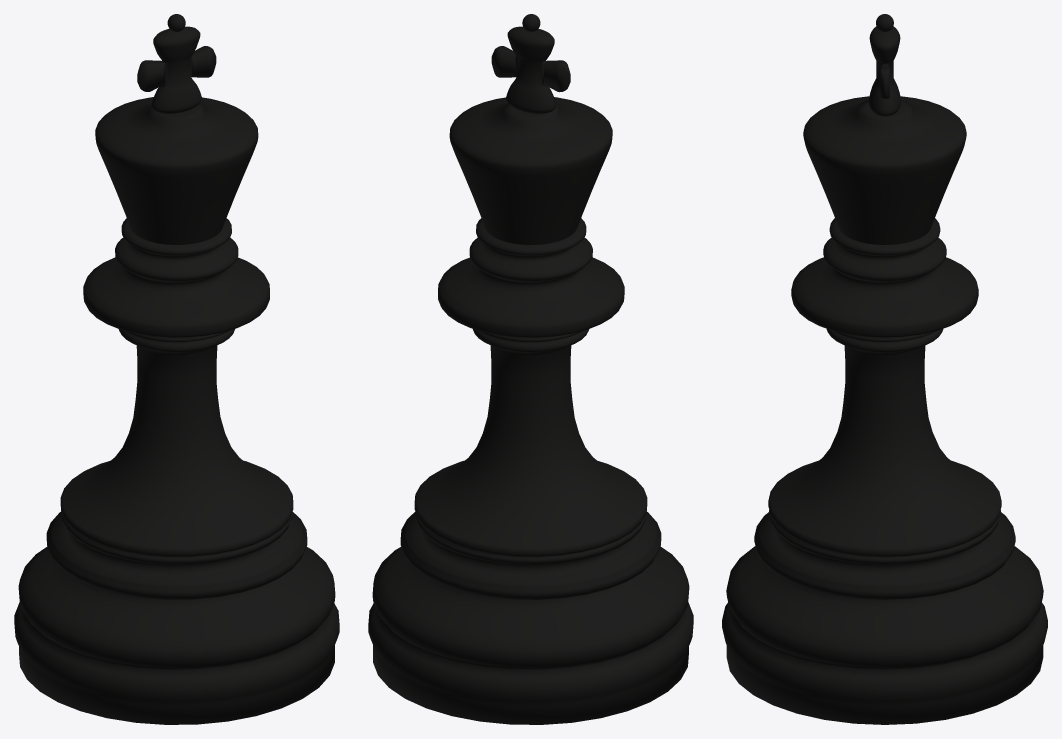
Rendered from King.fbx.
3 views of the same model, side by side, from view 1: azimuth 30°, elevation 25°; view 2: azimuth 150°, elevation 25°; view 3: azimuth 270°, elevation 25° (orthographic).
Visible parts, largest first — view 1: Ki Body; view 2: Ki Body; view 3: Ki Body.
Boxes of the visible parts, x1,y1,x2,y2 form: Ki Body: (14,14,339,724); Ki Body: (368,14,693,724); Ki Body: (722,14,1047,724).
Bounding box in the file's own units: 293 × 293 × 642.
